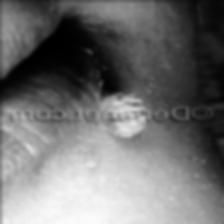Toxin: (98, 82, 156, 138)
